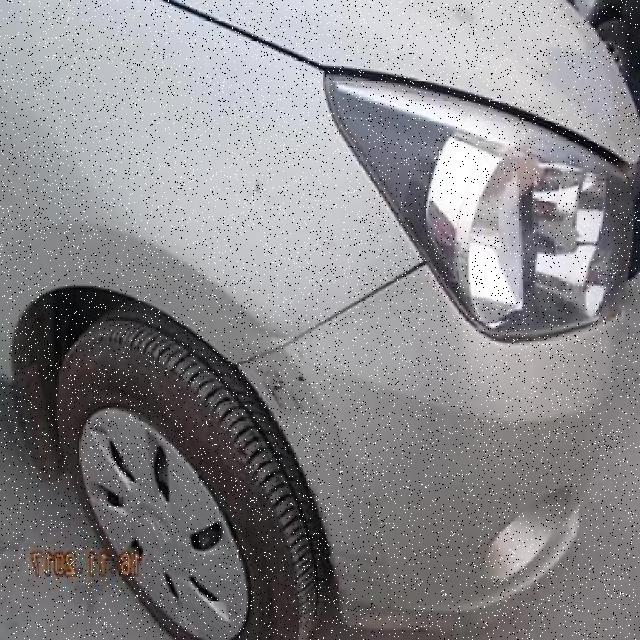damage: (306, 480, 378, 626), (259, 365, 304, 407)
